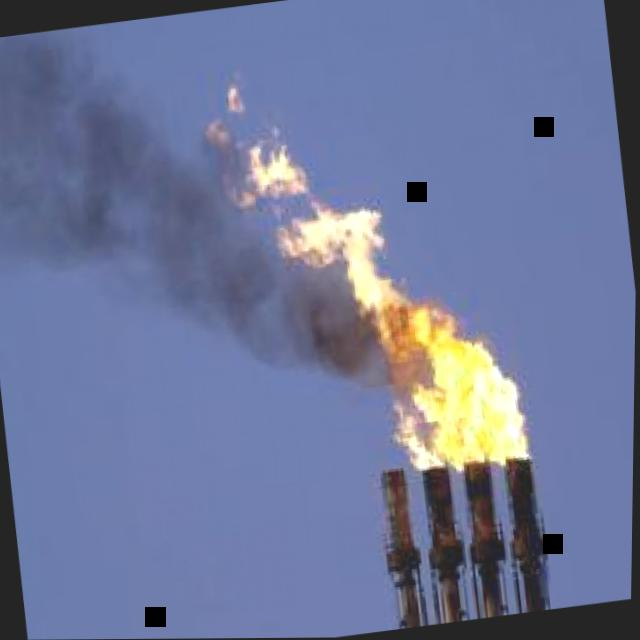fire: (275, 201, 533, 475), (207, 120, 307, 211), (227, 87, 243, 113)
smoke: (0, 78, 406, 399)
